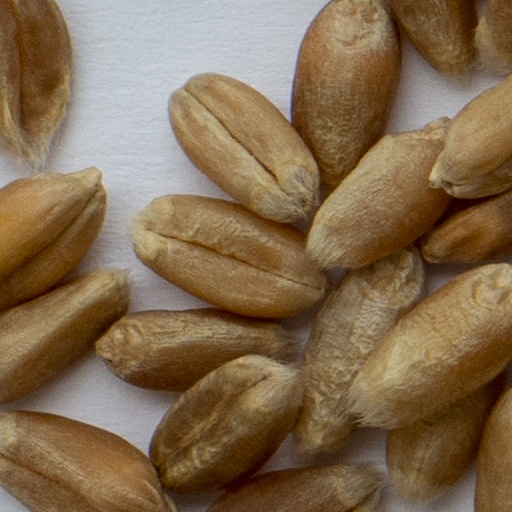Wheat-grain-poly: (295, 248, 428, 461), (343, 263, 511, 431), (149, 354, 296, 497), (383, 367, 511, 506), (201, 463, 386, 511), (471, 383, 511, 511)
